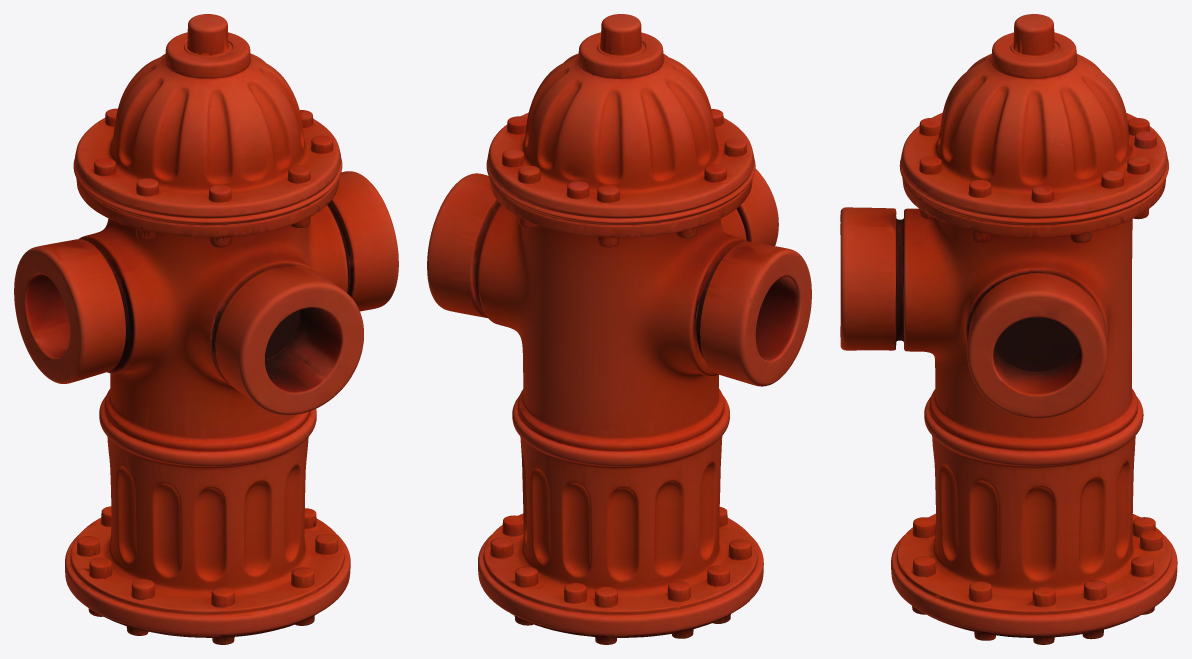
File: A_fire_hydrant_squat_with_two_side_outlets.glb
The picture shows the model from 3 angles, left to right: view 1: azimuth 30°, elevation 25°; view 2: azimuth 150°, elevation 25°; view 3: azimuth 270°, elevation 25°; orthographic projection.
Parts seen in each view (by area): view 1: node_0; view 2: node_0; view 3: node_0.
Boxes of the visible parts, bbox=[...] form: node_0: bbox=[14, 14, 398, 644]; node_0: bbox=[427, 14, 811, 644]; node_0: bbox=[840, 14, 1177, 644].
Size of the model in its own units: 0.6345 by 1.09 by 0.5819.
1 material, 1 textured.
